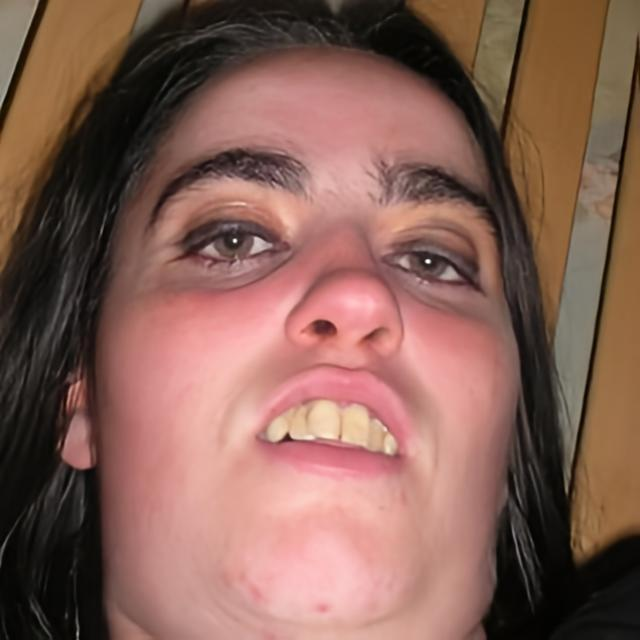disgust: (94, 44, 524, 640)
